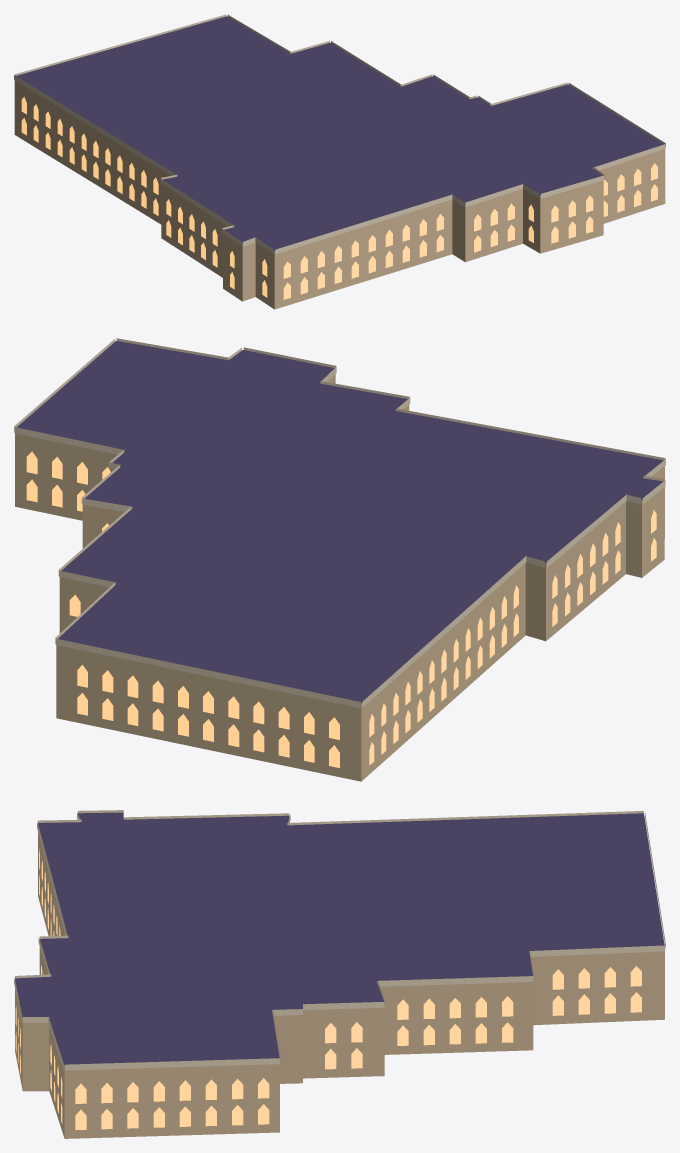
The model's file is core-law-school.glb.
3 views of the same model, one above another, from view 1: azimuth 30°, elevation 25°; view 2: azimuth 150°, elevation 25°; view 3: azimuth 270°, elevation 25° (orthographic). The views are drawn at different scales.
Visible parts, largest first — view 1: campus/core-law-school-0; view 2: campus/core-law-school-0; view 3: campus/core-law-school-0.
Boxes of the visible parts, x1,y1,x2,y2 form: campus/core-law-school-0: (14,14,665,309); campus/core-law-school-0: (14,338,665,781); campus/core-law-school-0: (14,810,665,1138).
Bounding box in the file's own units: 69.02 × 9.45 × 74.7.
